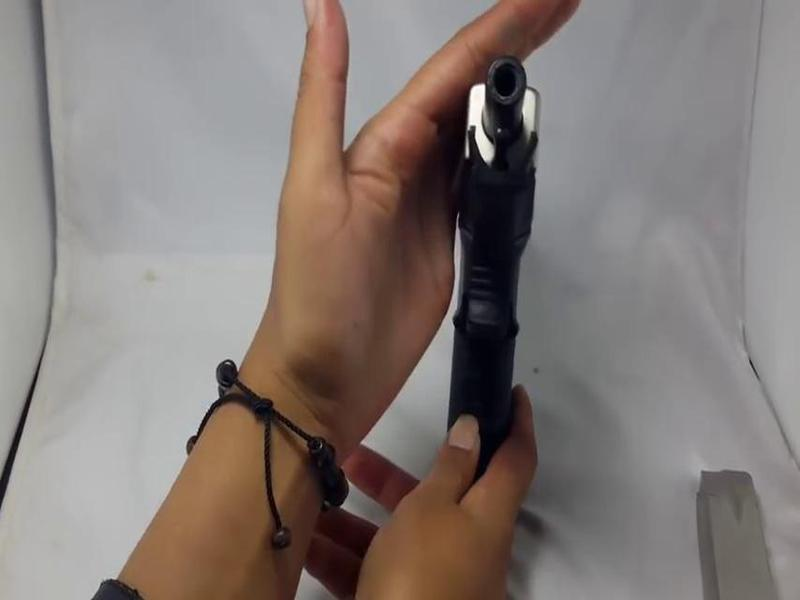Pistola: (432, 54, 580, 494)
